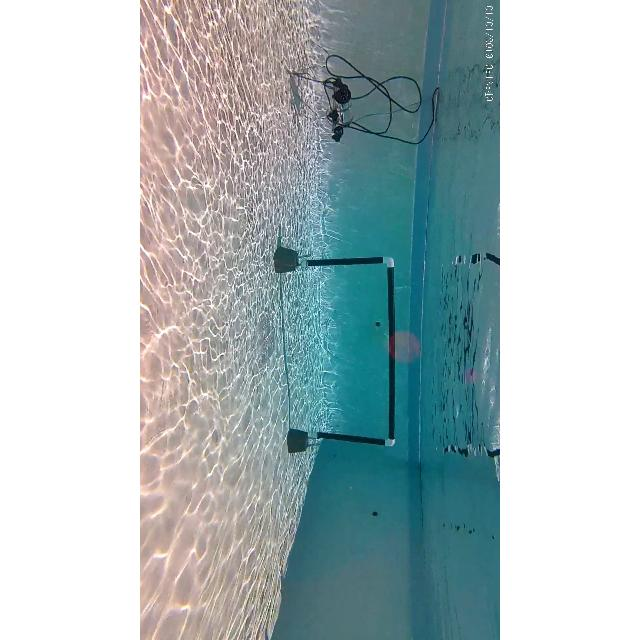prequal gate: (304, 253, 398, 449)
prequal gate leg l: (274, 238, 394, 276)
prequal gate leg r: (288, 427, 396, 457)
